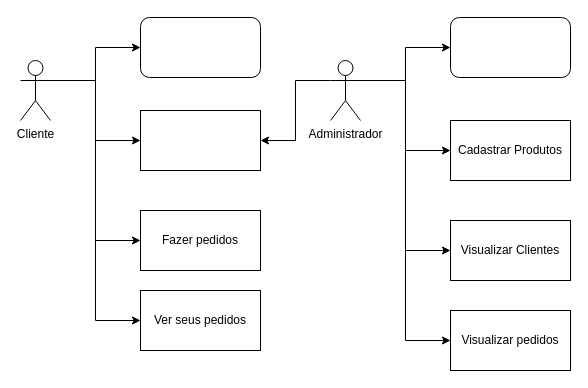
Image size: 588x388. Some labels were removed from this diagram. Each missing label, with the centre of its shape:
"Fazer Login" goes at pixel 200 140.
"Promover usuário a administrador" goes at pixel 510 47.
"Se cadastrar" goes at pixel 200 47.
